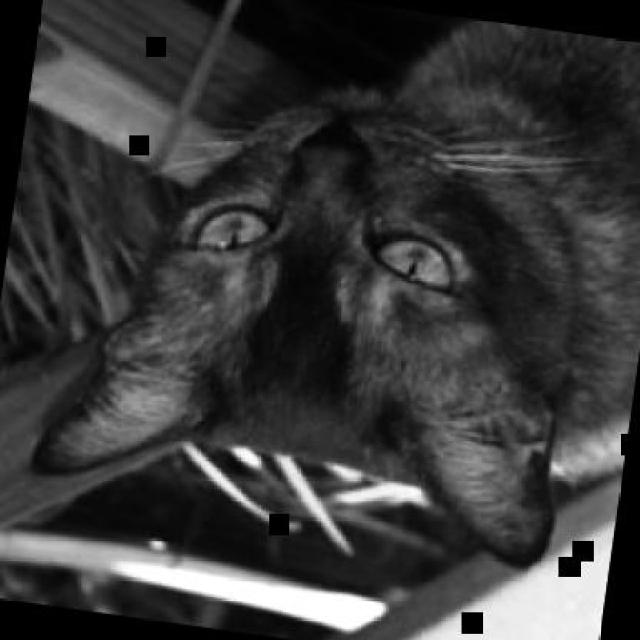cat: (23, 0, 639, 585)
